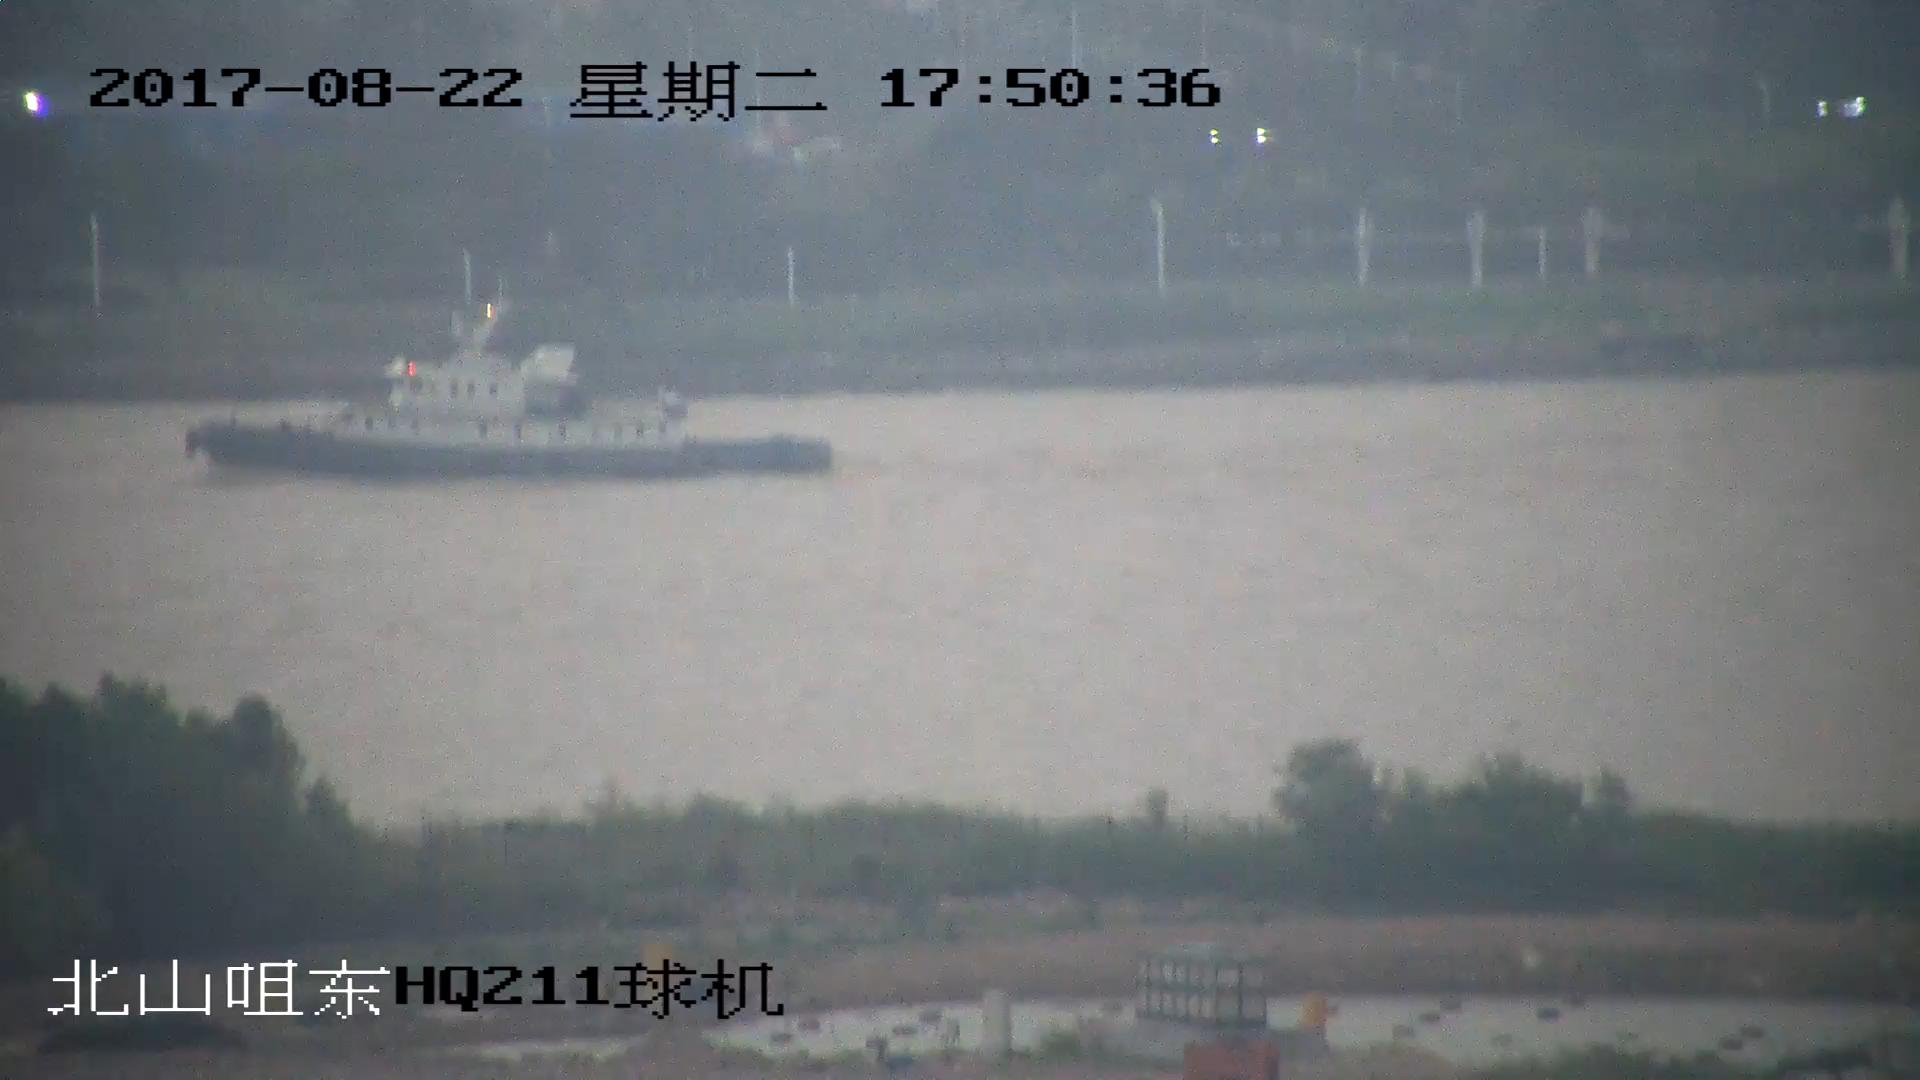passenger ship: (188, 263, 832, 477)
